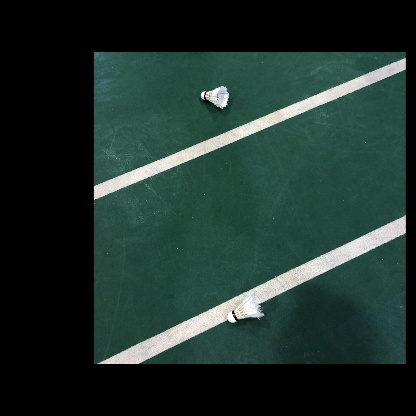ball_single: (227, 291, 264, 323), (201, 86, 229, 109)
